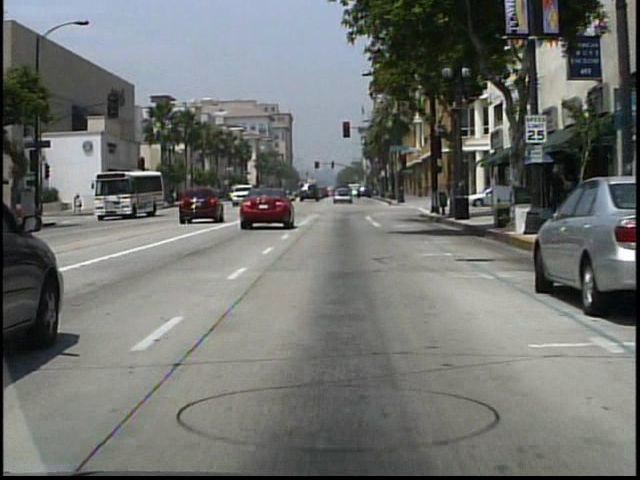person: (74, 194, 85, 215)
